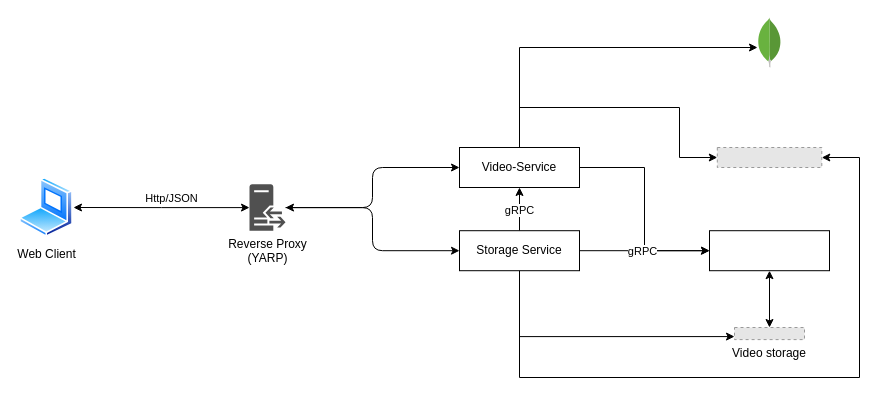
The diagram is 885 pixels wide and 403 high, and some of its shapes have lost their labels. Grey dashed boxes stand in for pictures. The shapes that lost their labels are listed below. From the top down, each one's centre as x and y in pixels, then its label:
the point at 768,42: MongoDB
the point at 769,250: Process Service
